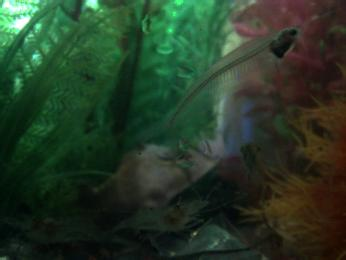X-ray fish: (237, 143, 275, 188)
glassfish: (141, 25, 303, 151)
siberian prawn: (109, 192, 213, 231), (6, 211, 117, 245)
